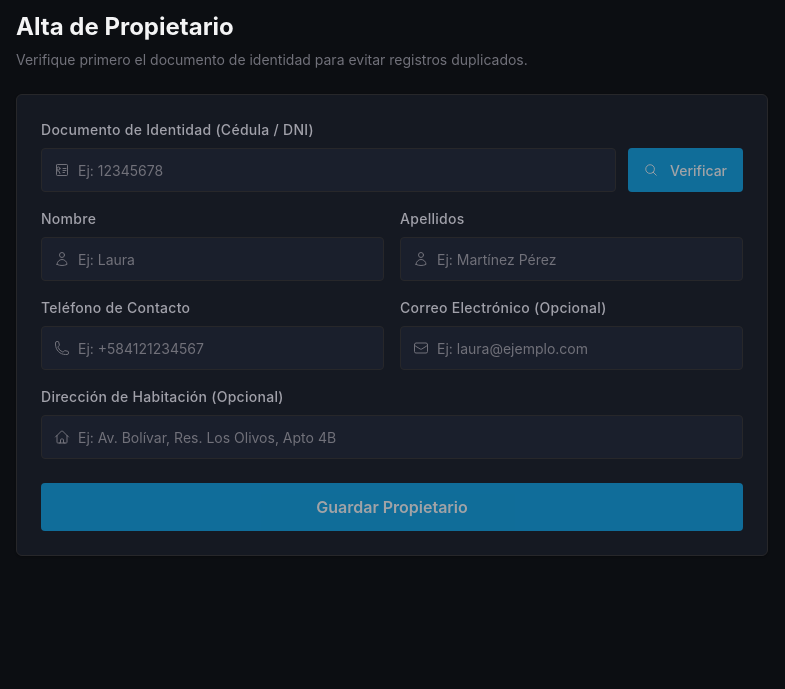
Scenario: UI Integration: OwnerRegisterScreen (RF-68, RF-60, RNF-3) › debe mostrar mensaje amigable de límite superado ante error HTTP 429 en lookup
This screenshot has width=785, height=689.
Type "99999999" into the field with placeholder "Ej: 12345678".
click(341, 170); type("99999999")  # box [78,149,603,191]
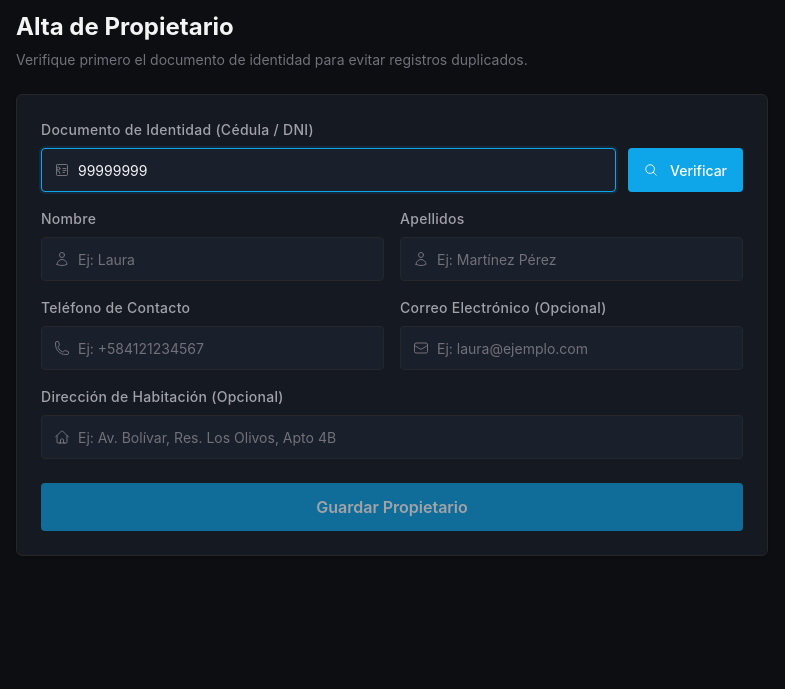
Click the button "Verificar".
click(686, 170)  # box [628,148,743,192]
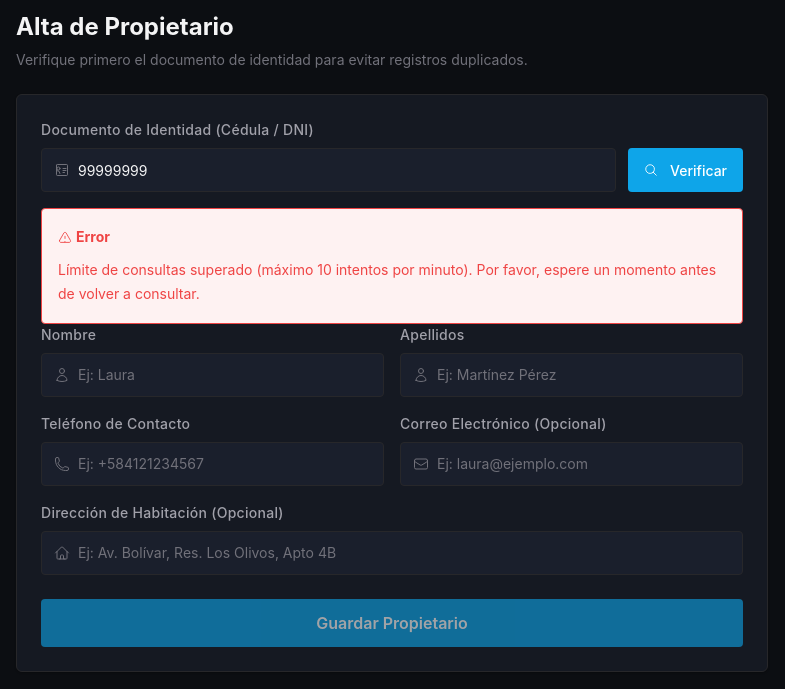
Check: the text "Límite de consultas superado" is shown, box [58,260,716,302]
